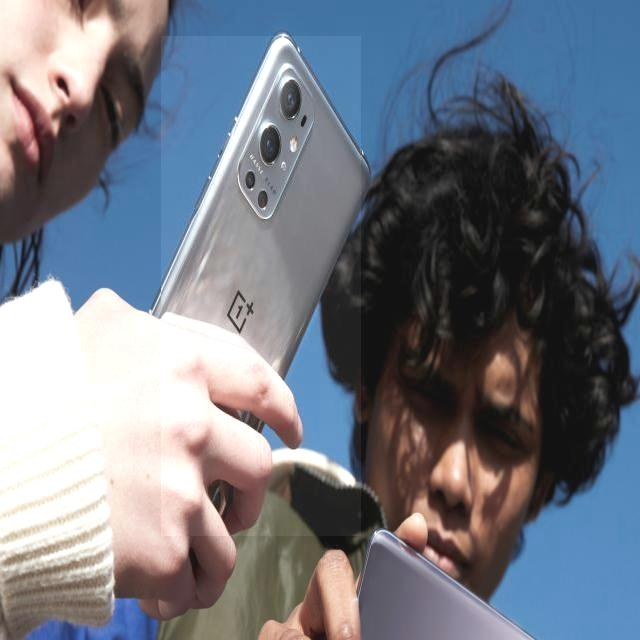phone: (162, 37, 362, 537)
